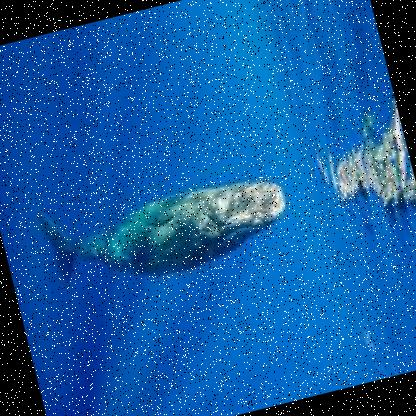sperm_whale: (0, 131, 319, 355)
